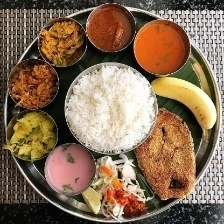sabzi: (35, 18, 88, 65)
